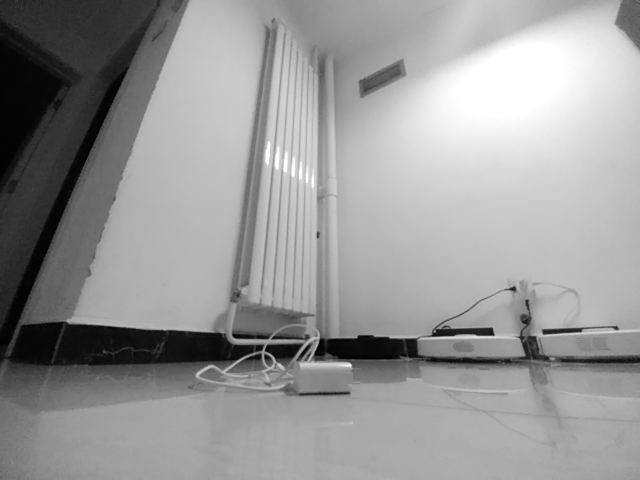wire: (195, 324, 322, 392)
